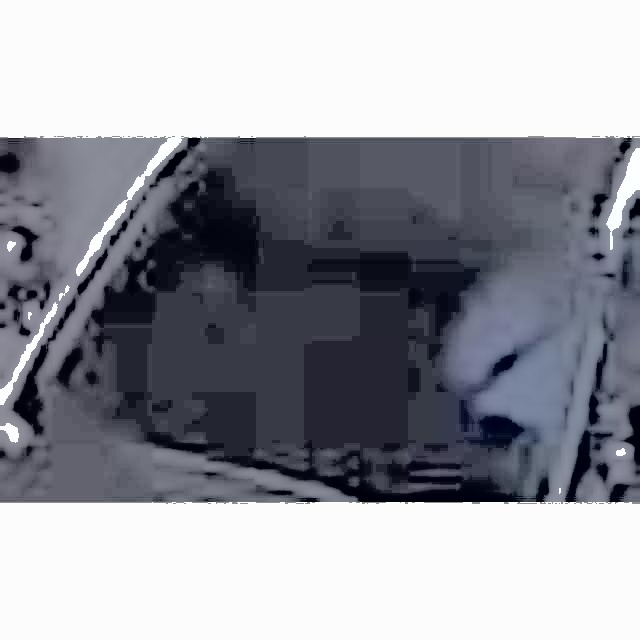pakai: (422, 234, 608, 439)
